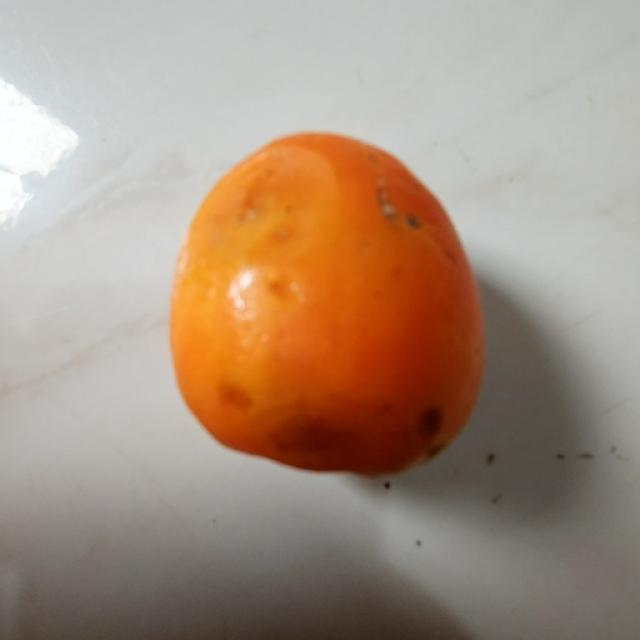Red: (167, 128, 486, 477)
